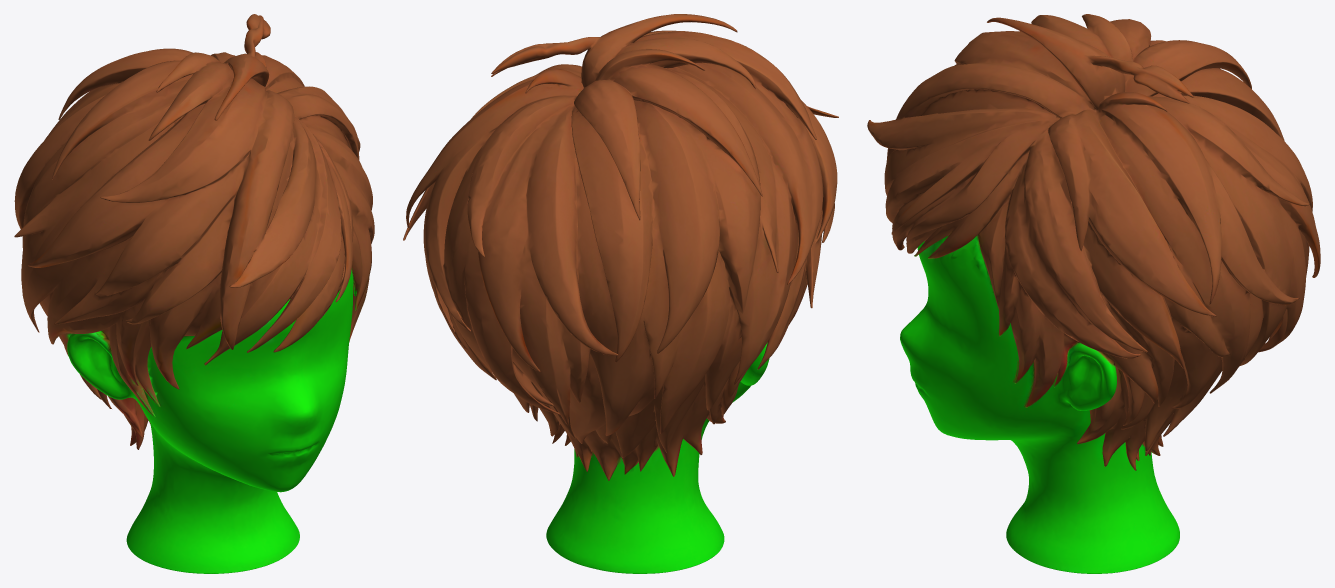
The model's file is hair-nagi-pixie-v2.glb.
3 renders of one model, left to right at view 1: azimuth 30°, elevation 25°; view 2: azimuth 150°, elevation 25°; view 3: azimuth 270°, elevation 25°, orthographic. The views are drawn at different scales.
Visible parts, largest first — view 1: tripo_node_b165a1c0-1917-47bf-af39-f9530ac1f75c; view 2: tripo_node_b165a1c0-1917-47bf-af39-f9530ac1f75c; view 3: tripo_node_b165a1c0-1917-47bf-af39-f9530ac1f75c.
Boxes of the visible parts, bbox=[...] form: tripo_node_b165a1c0-1917-47bf-af39-f9530ac1f75c: bbox=[14, 14, 374, 573]; tripo_node_b165a1c0-1917-47bf-af39-f9530ac1f75c: bbox=[403, 14, 838, 573]; tripo_node_b165a1c0-1917-47bf-af39-f9530ac1f75c: bbox=[867, 14, 1320, 573].
Size of the model in its own units: 0.7154 by 0.9798 by 0.7904.
Materials: 1 (1 with a texture image).
